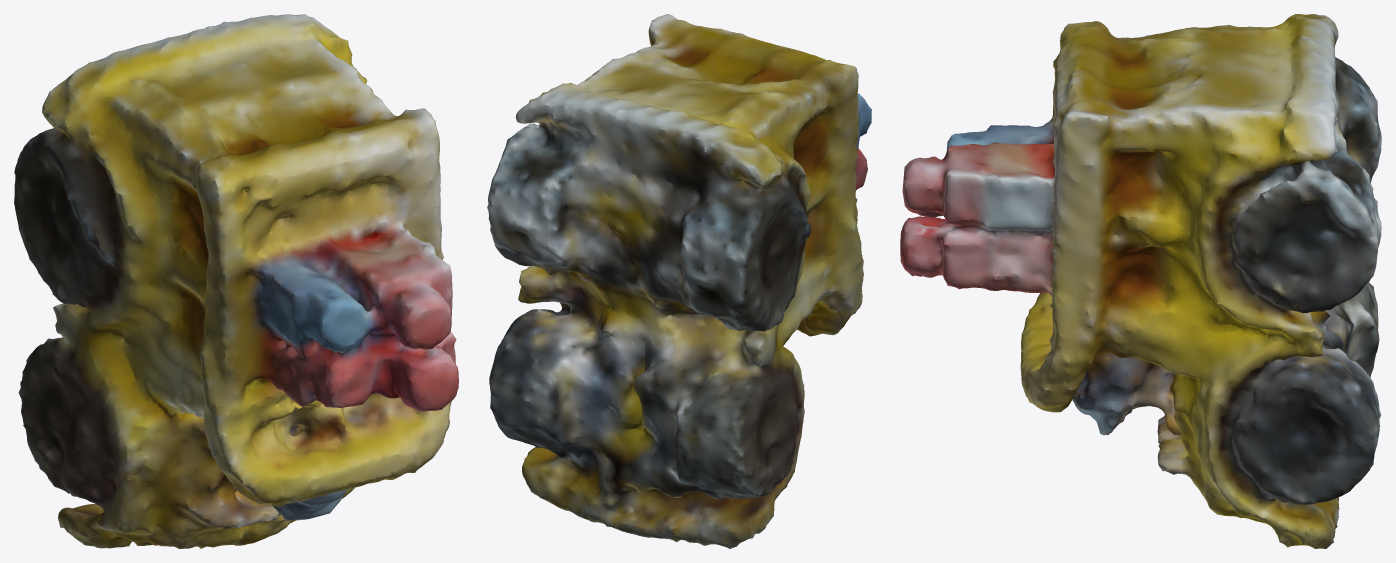
Rendered from school_bus2.glb.
The picture shows the model from 3 angles, left to right: view 1: azimuth 30°, elevation 25°; view 2: azimuth 150°, elevation 25°; view 3: azimuth 270°, elevation 25°; orthographic projection. The views are drawn at different scales.
Size of the model in its own units: 0.6602 by 0.998 by 0.9536.
